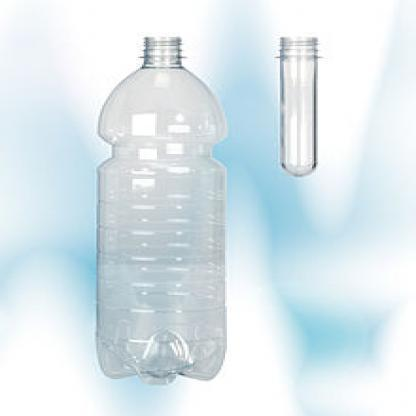bottle: (90, 20, 235, 396)
